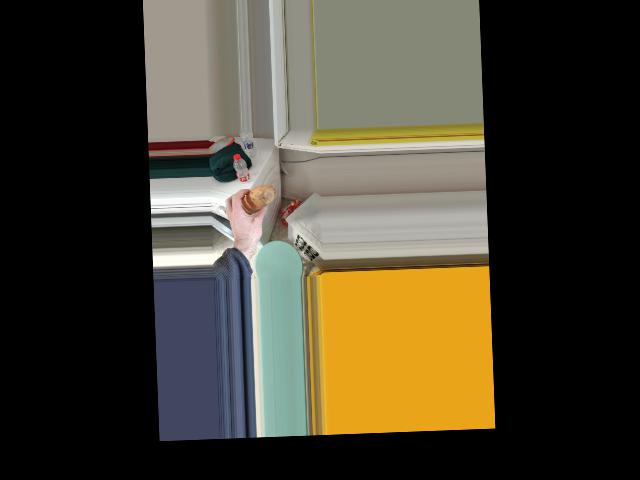sweet_potato: (239, 183, 270, 215)
